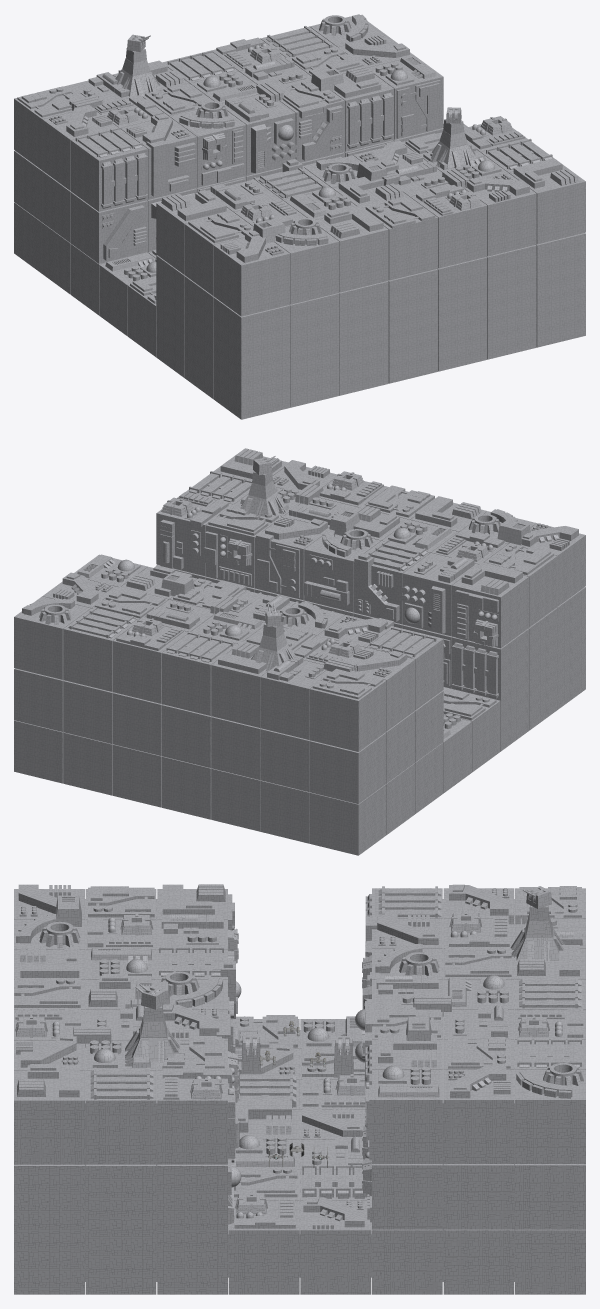
The model's file is death_star_trench_run.glb.
The picture shows the model from 3 angles, top to bottom: view 1: azimuth 30°, elevation 25°; view 2: azimuth 150°, elevation 25°; view 3: azimuth 270°, elevation 25°; orthographic projection. The views are drawn at different scales.
Parts seen in each view (by area): view 1: DeathStarTrench; view 2: DeathStarTrench (×2); view 3: DeathStarTrench.
Part boxes in pixels (x1=…): DeathStarTrench: x1=14, y1=14, x2=585, y2=419; DeathStarTrench (×2): x1=14, y1=448, x2=585, y2=855; DeathStarTrench: x1=14, y1=884, x2=585, y2=1294.
Size of the model in its own units: 24.71 by 14.2 by 28.25.
12 materials, 8 textured.
